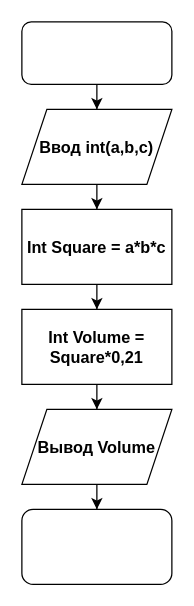
The diagram is 194 pixels wide and 606 high, and some of its shapes have lost their labels. Here are the shapes that lost their labels. From the top down, the centre of each, then its label:
point (96, 52): Начало
point (96, 546): Конец
